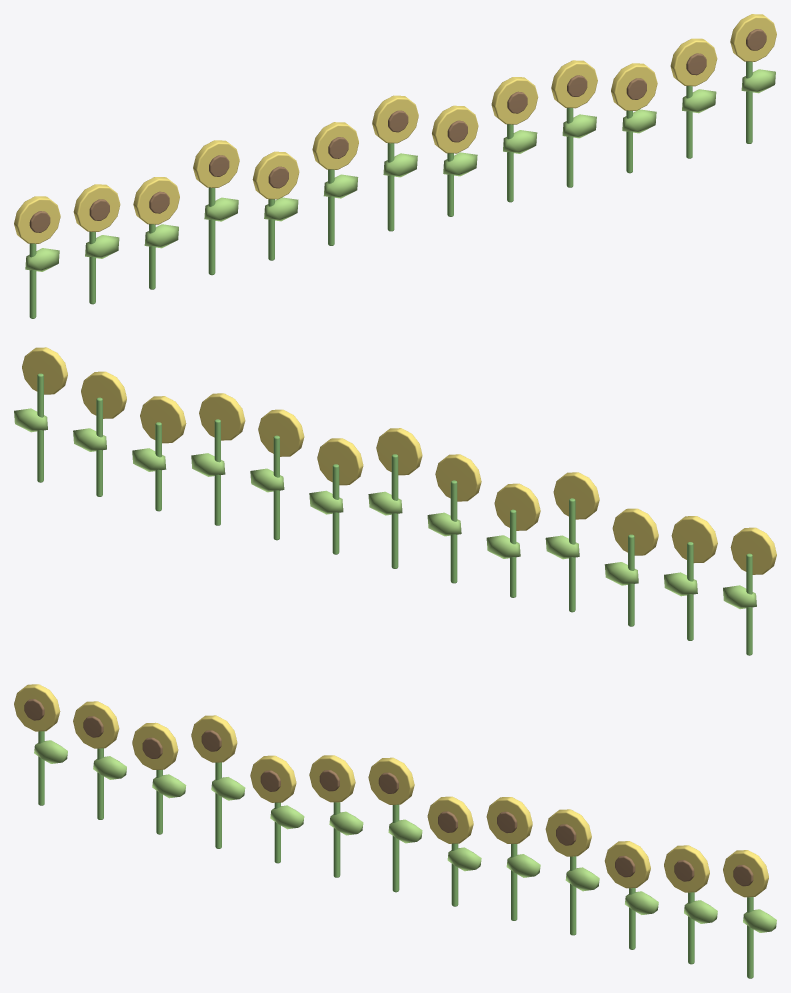
File: sunflower_row.fbx
The picture shows the model from 3 angles, top to bottom: view 1: azimuth 30°, elevation 25°; view 2: azimuth 150°, elevation 25°; view 3: azimuth 330°, elevation 25°; orthographic projection.
Parts seen in each view (by area): view 1: Visual; view 2: Visual; view 3: Visual.
Boxes of the visible parts, <box> form: Visual: <box>14,14,776,318</box>; Visual: <box>14,347,776,655</box>; Visual: <box>14,684,776,978</box>.
Size of the model in its own units: 1192 by 204 by 32.21.
